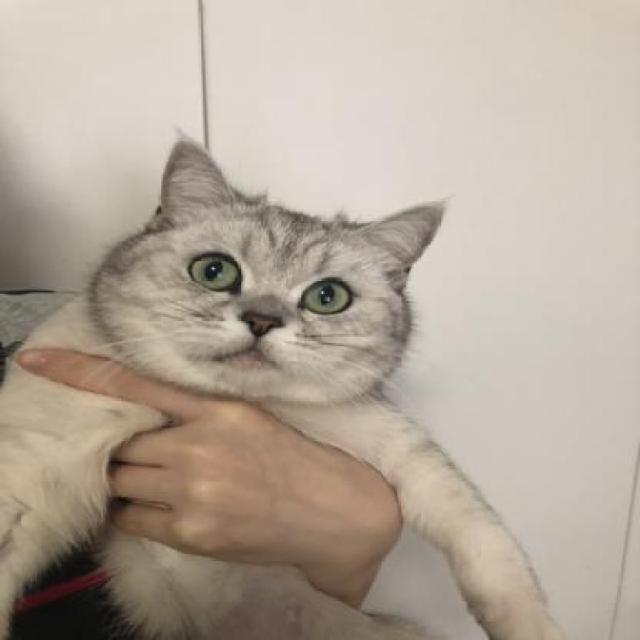cat-face: (78, 124, 450, 399)
